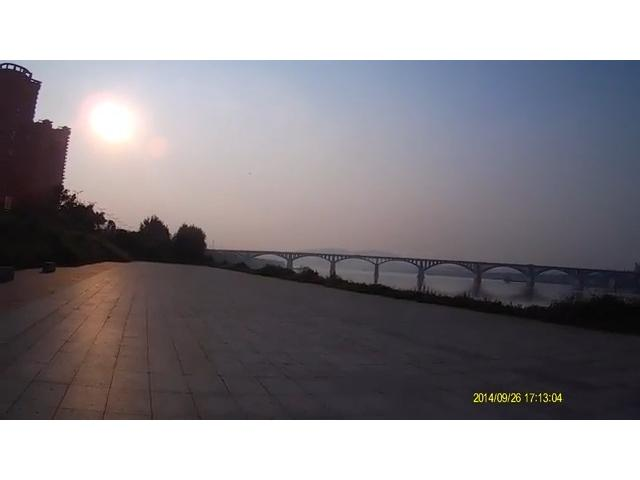Anti-Drone: (243, 169, 253, 177)
